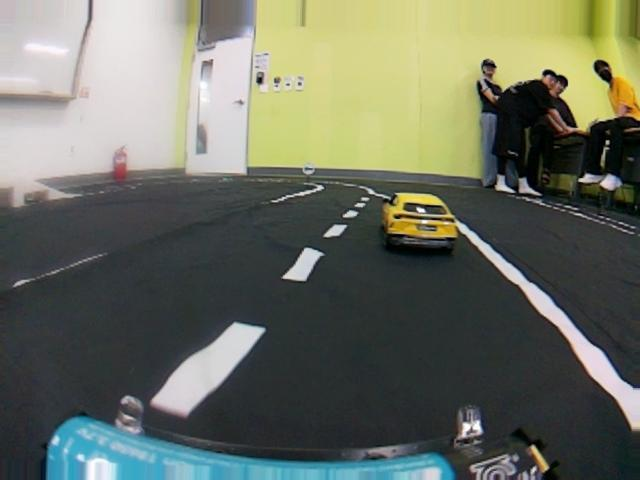car: (378, 193, 461, 263)
straight: (145, 279, 640, 479)
